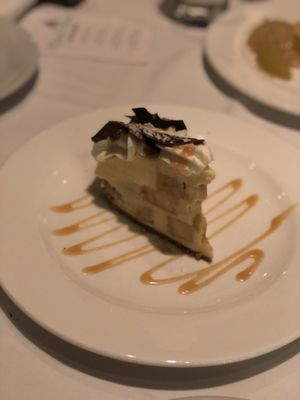burger: (175, 204, 299, 296)
